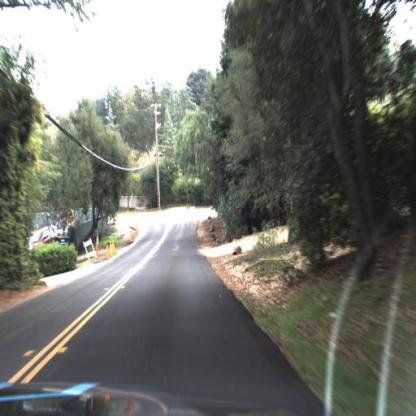car: (27, 221, 58, 261), (54, 211, 83, 247)
